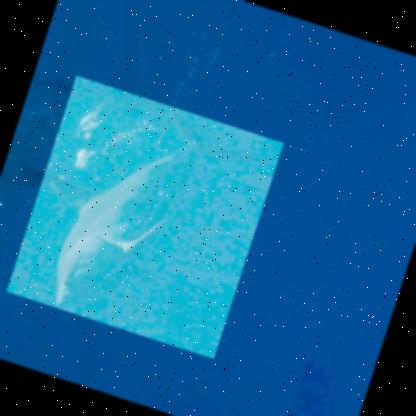mako-shark: (6, 74, 284, 359)
